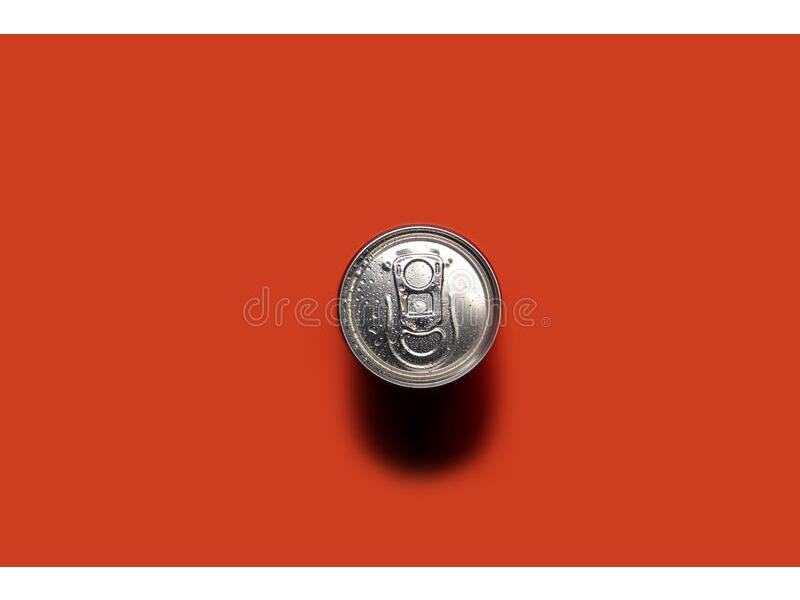can: (330, 221, 506, 398)
